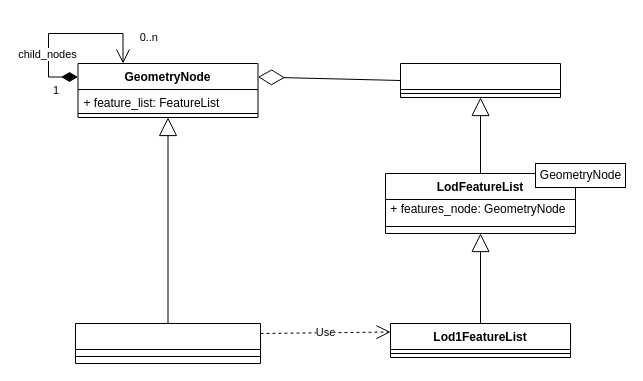
The diagram is 643 pixels wide and 381 high, and some of its shapes have lost their labels. Here are the shapes that lost their labels. From the top down, the centre of each, then its label:
point (480, 80): FeatureList
point (167, 343): Lod1Node
